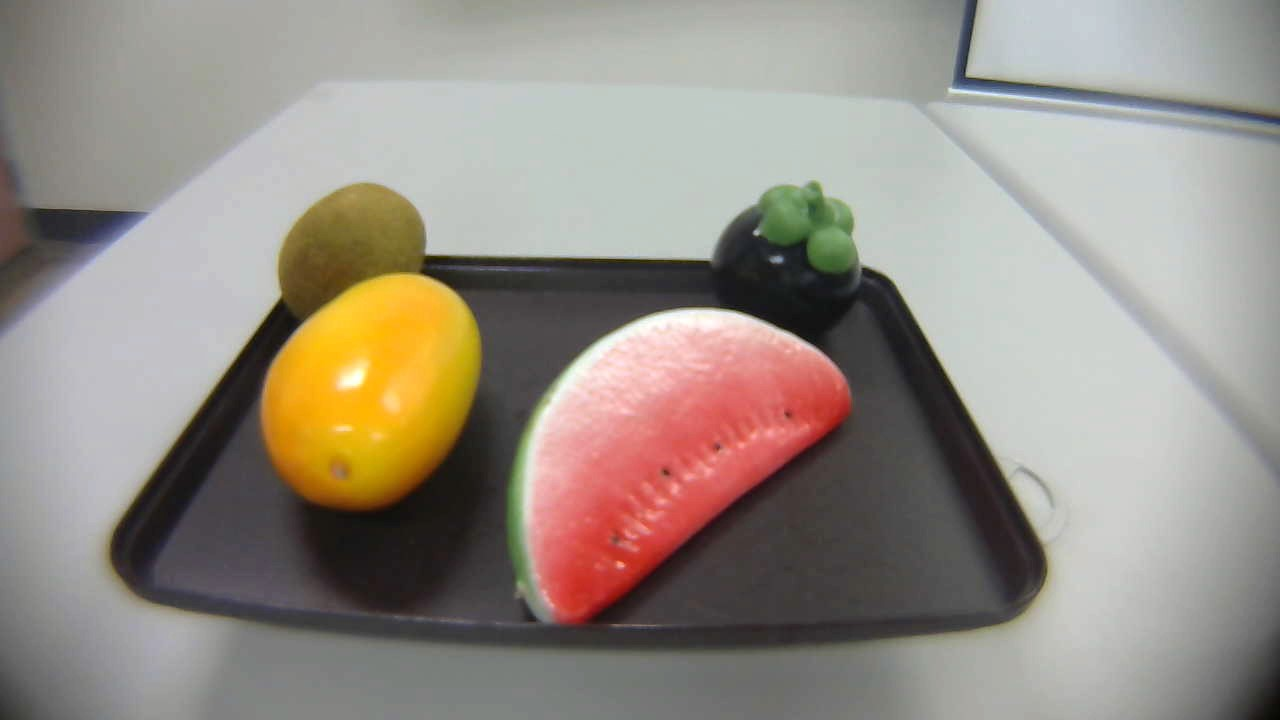kiwi fruit: (278, 186, 429, 322)
mangosteen: (709, 175, 863, 334)
water melon: (507, 303, 862, 623)
yellow mango: (253, 264, 492, 521)
